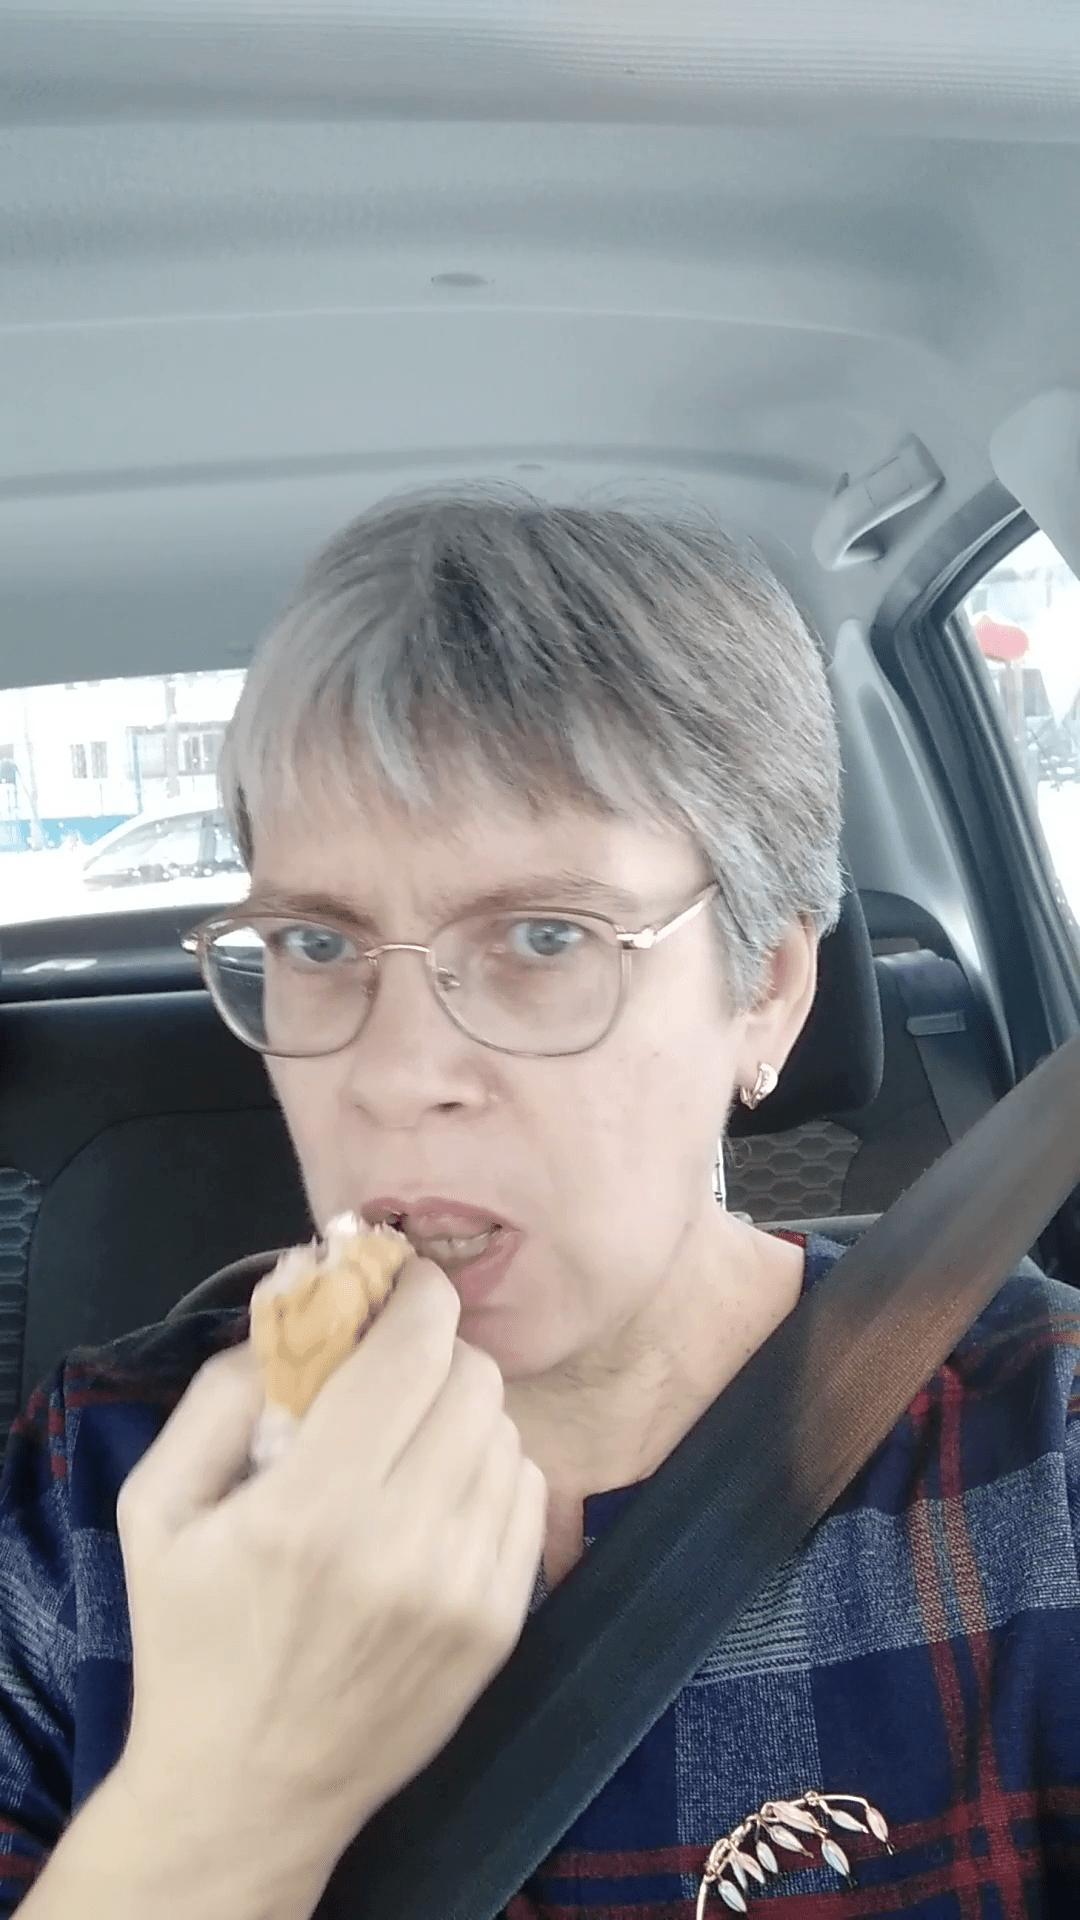Eating: (208, 1178, 516, 1477)
